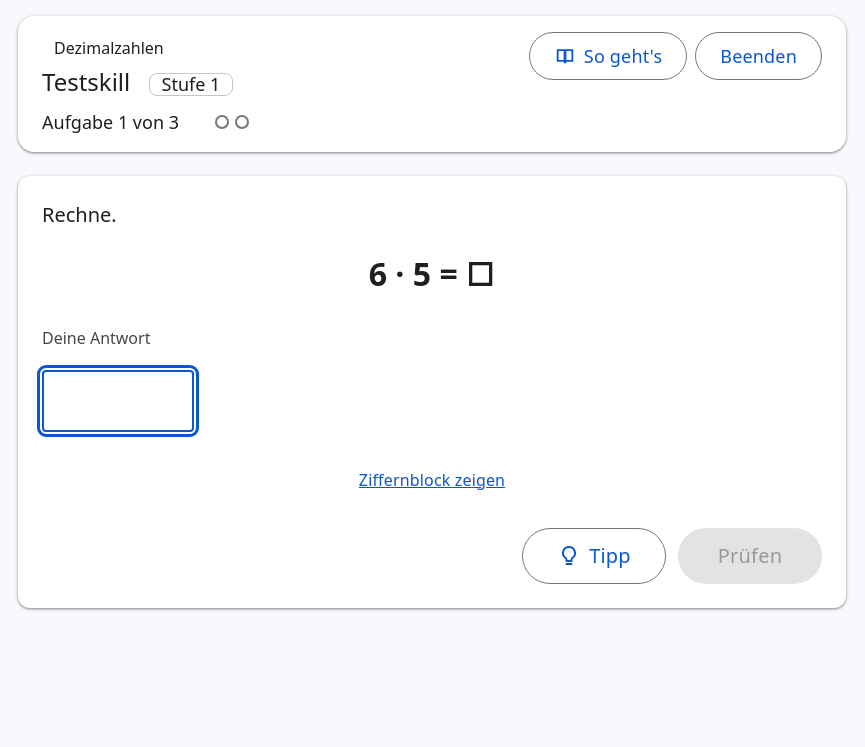
Scenario: PracticePage: item flow › Enter in the field submits
Expected: the button "Prüfen" is shown, [678,528,822,584]
Type "30" into the field labelled "Deine Antwort". click: (118, 401)
box: [42,370,194,432]
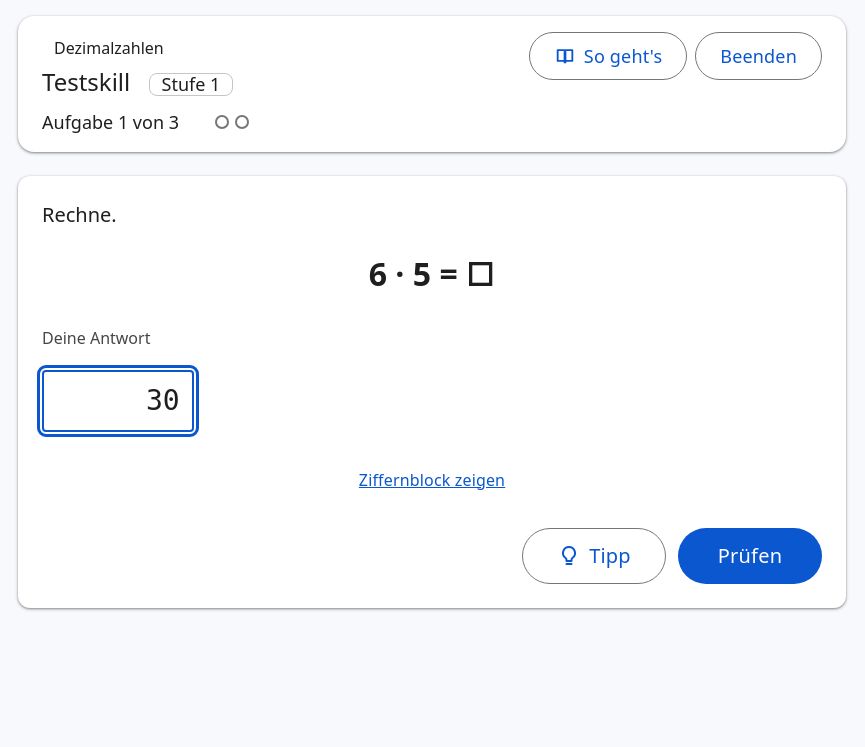
Press Enter in the field labelled "Deine Antwort", box [42,370,194,432]
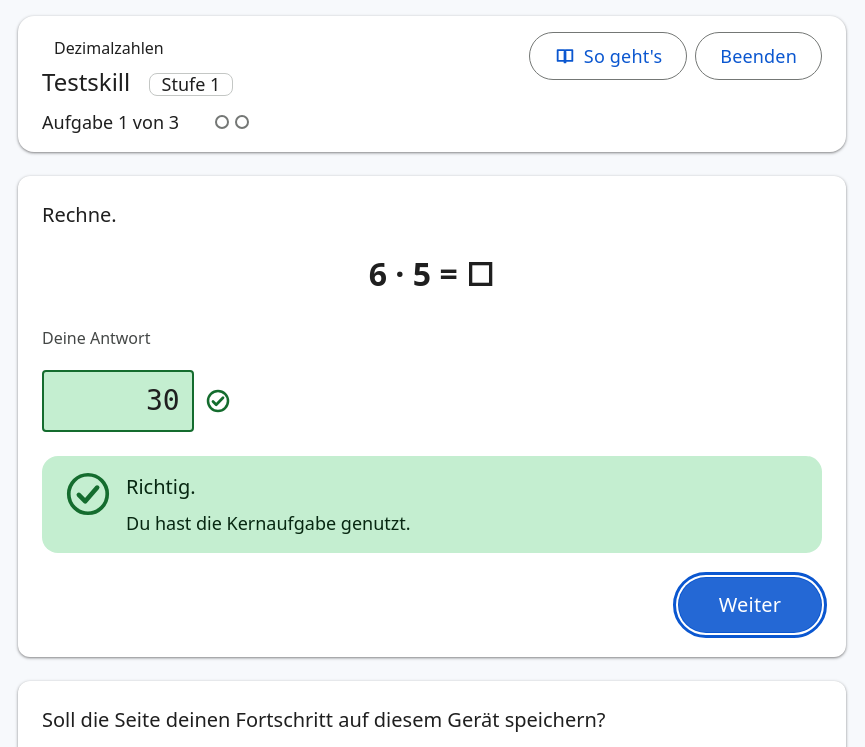
Expected: the text "Richtig." is shown, [126,473,196,500]
